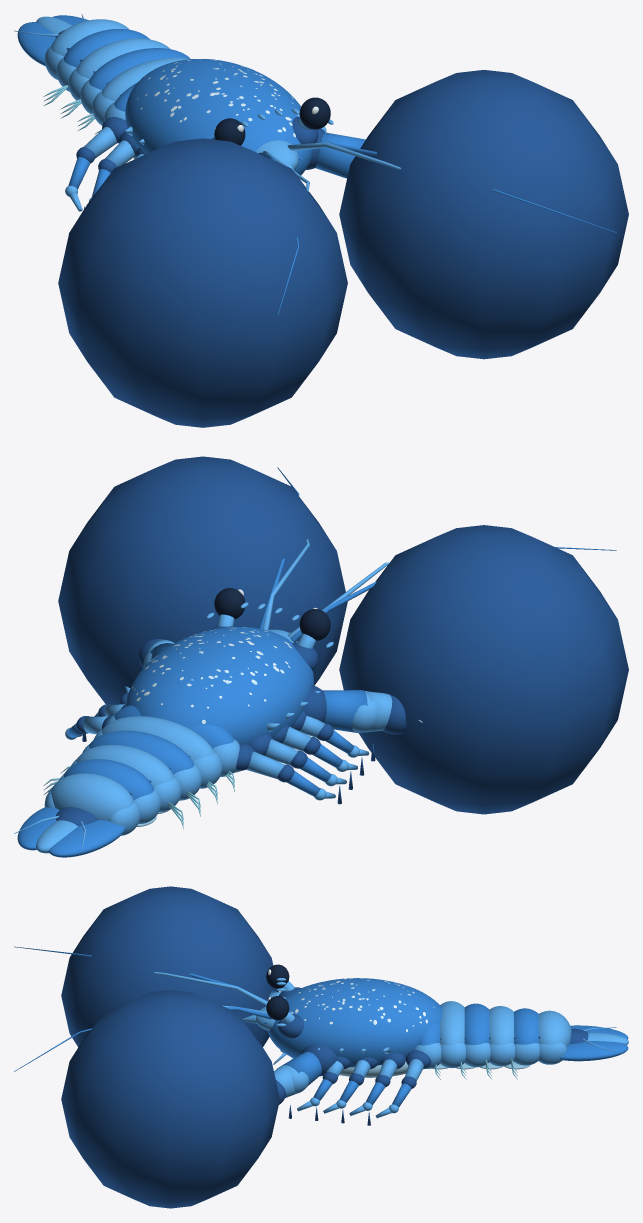
Rendered from blue_yabby.glb.
3 renders of one model, top to bottom at view 1: azimuth 30°, elevation 25°; view 2: azimuth 150°, elevation 25°; view 3: azimuth 270°, elevation 25°, orthographic. The views are drawn at different scales.
Visible parts, largest first — view 1: ChelipedPivot_R_Merged_Joint seams | deep ultra, ChelipedPivot_L_Merged_Joint seams | deep ultra, BlueYabby_Root_Merged_Blue cuticle | cobalt en, BlueYabby_Root_Merged_Raised blue shell ridges, BlueYabby_Root_Merged_Glossy black compound ey, ChelipedPivot_R_Merged_Blue cuticle | cobalt en, WalkingLegPivot_L_4_Merged_Raised blue shell ridges, Carapace_DorsalPaleMarbling, FiliformAntenna_R_2; view 2: ChelipedPivot_L_Merged_Joint seams | deep ultra, ChelipedPivot_R_Merged_Joint seams | deep ultra, BlueYabby_Root_Merged_Blue cuticle | cobalt en, BlueYabby_Root_Merged_Raised blue shell ridges, BlueYabby_Root_Merged_Glossy black compound ey, ChelipedPivot_L_Merged_Blue cuticle | cobalt en, ChelipedPivot_L_Merged_Raised blue shell ridges, BlueYabby_Root_Merged_Joint seams | deep ultra, Carapace_DorsalPaleMarbling, WalkingLegPivot_L_4_Merged_Raised blue shell ridges, WalkingLegPivot_L_3_Merged_Raised blue shell ridges, WalkingLegPivot_L_4_Merged_Joint seams | deep ultra (+3 smaller); view 3: ChelipedPivot_R_Merged_Joint seams | deep ultra, ChelipedPivot_L_Merged_Joint seams | deep ultra, BlueYabby_Root_Merged_Blue cuticle | cobalt en, BlueYabby_Root_Merged_Raised blue shell ridges, BlueYabby_Root_Merged_Glossy black compound ey, BlueYabby_Root_Merged_Joint seams | deep ultra, ChelipedPivot_R_Merged_Raised blue shell ridges, BlueYabby_Root_Merged_Pale blue ventral cuticl, ChelipedPivot_R_Merged_Blue cuticle | cobalt en, Carapace_DorsalPaleMarbling, FiliformAntenna_L_2.
Boxes of the visible parts, bbox=[...] form: ChelipedPivot_R_Merged_Joint seams | deep ultra: bbox=[306, 70, 628, 359]; ChelipedPivot_L_Merged_Joint seams | deep ultra: bbox=[58, 138, 347, 427]; BlueYabby_Root_Merged_Blue cuticle | cobalt en: bbox=[17, 15, 313, 175]; BlueYabby_Root_Merged_Raised blue shell ridges: bbox=[14, 14, 333, 170]; BlueYabby_Root_Merged_Glossy black compound ey: bbox=[214, 97, 330, 145]; ChelipedPivot_R_Merged_Blue cuticle | cobalt en: bbox=[315, 132, 365, 178]; WalkingLegPivot_L_4_Merged_Raised blue shell ridges: bbox=[65, 127, 117, 211]; Carapace_DorsalPaleMarbling: bbox=[137, 59, 299, 137]; FiliformAntenna_R_2: bbox=[287, 142, 400, 169]; ChelipedPivot_L_Merged_Joint seams | deep ultra: bbox=[303, 525, 628, 814]; ChelipedPivot_R_Merged_Joint seams | deep ultra: bbox=[58, 456, 347, 704]; BlueYabby_Root_Merged_Blue cuticle | cobalt en: bbox=[17, 627, 313, 857]; BlueYabby_Root_Merged_Raised blue shell ridges: bbox=[14, 602, 333, 853]; BlueYabby_Root_Merged_Glossy black compound ey: bbox=[214, 588, 330, 640]; ChelipedPivot_L_Merged_Blue cuticle | cobalt en: bbox=[322, 690, 367, 733]; ChelipedPivot_L_Merged_Raised blue shell ridges: bbox=[352, 691, 392, 732]; BlueYabby_Root_Merged_Joint seams | deep ultra: bbox=[56, 625, 318, 826]; Carapace_DorsalPaleMarbling: bbox=[131, 627, 292, 723]; WalkingLegPivot_L_4_Merged_Raised blue shell ridges: bbox=[246, 751, 335, 800]; WalkingLegPivot_L_3_Merged_Raised blue shell ridges: bbox=[265, 739, 346, 786]; WalkingLegPivot_L_4_Merged_Joint seams | deep ultra: bbox=[236, 743, 341, 804]; ChelipedPivot_R_Merged_Joint seams | deep ultra: bbox=[61, 990, 336, 1208]; ChelipedPivot_L_Merged_Joint seams | deep ultra: bbox=[61, 886, 278, 1047]; BlueYabby_Root_Merged_Blue cuticle | cobalt en: bbox=[260, 978, 628, 1067]; BlueYabby_Root_Merged_Raised blue shell ridges: bbox=[242, 978, 628, 1068]; BlueYabby_Root_Merged_Glossy black compound ey: bbox=[266, 964, 289, 1020]; BlueYabby_Root_Merged_Joint seams | deep ultra: bbox=[278, 987, 588, 1044]; ChelipedPivot_R_Merged_Raised blue shell ridges: bbox=[274, 1065, 309, 1097]; BlueYabby_Root_Merged_Pale blue ventral cuticl: bbox=[280, 1050, 530, 1077]; ChelipedPivot_R_Merged_Blue cuticle | cobalt en: bbox=[282, 1051, 321, 1086]; Carapace_DorsalPaleMarbling: bbox=[291, 978, 434, 1031]; FiliformAntenna_L_2: bbox=[154, 972, 267, 1006].
Bounding box in the file's own units: 4.24 × 2 × 5.62.
